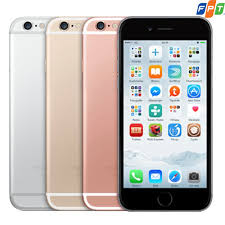iphone: (115, 15, 213, 214)
iphone6: (115, 15, 213, 214)
